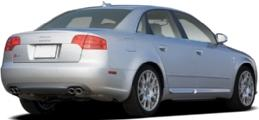back_view: (1, 32, 119, 100)
backlight: (66, 32, 110, 54)
side_glass: (137, 7, 217, 47)
